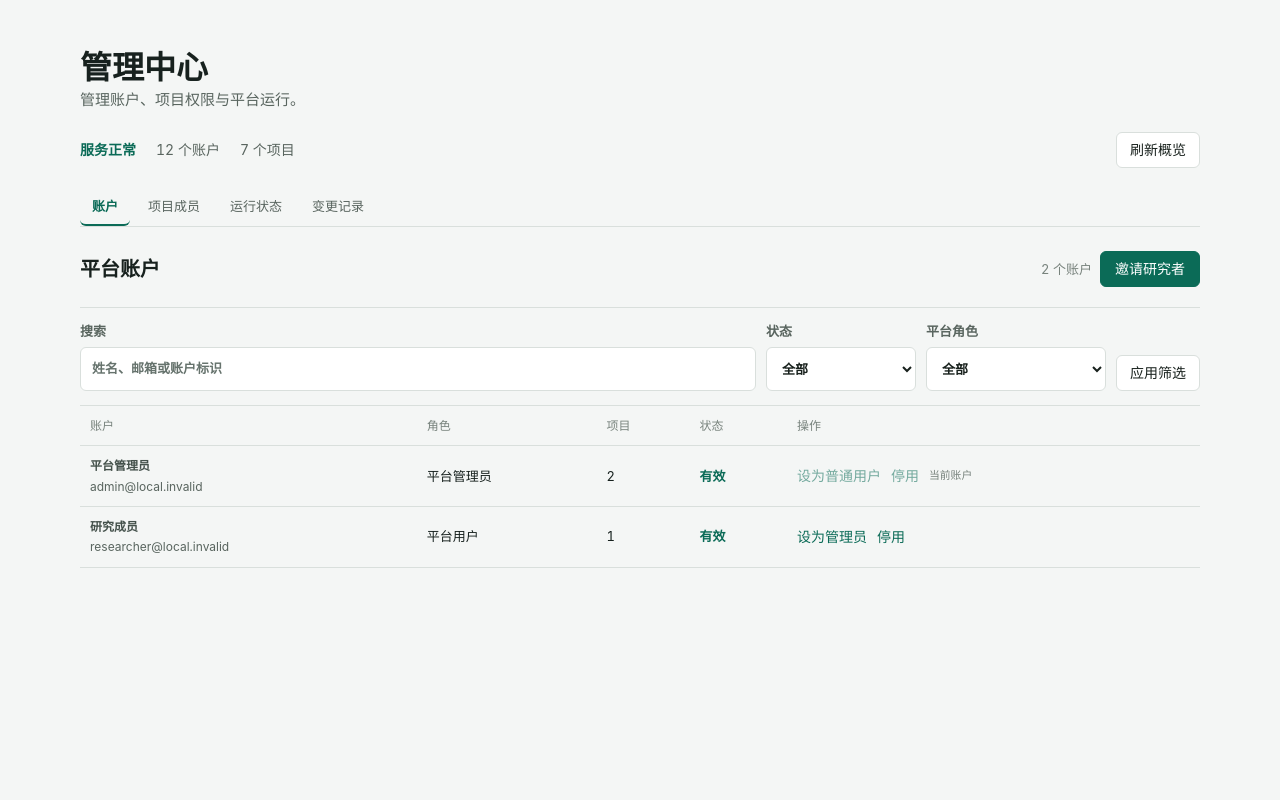
Test case: requires an explicit confirmation before changing another account
The image size is (1280, 800).
Expected: the heading "管理中心" is shown, [80,48,208,87]
Click the button "停用" in the row of "研究成员" at (891,537), box [877,521,905,553]
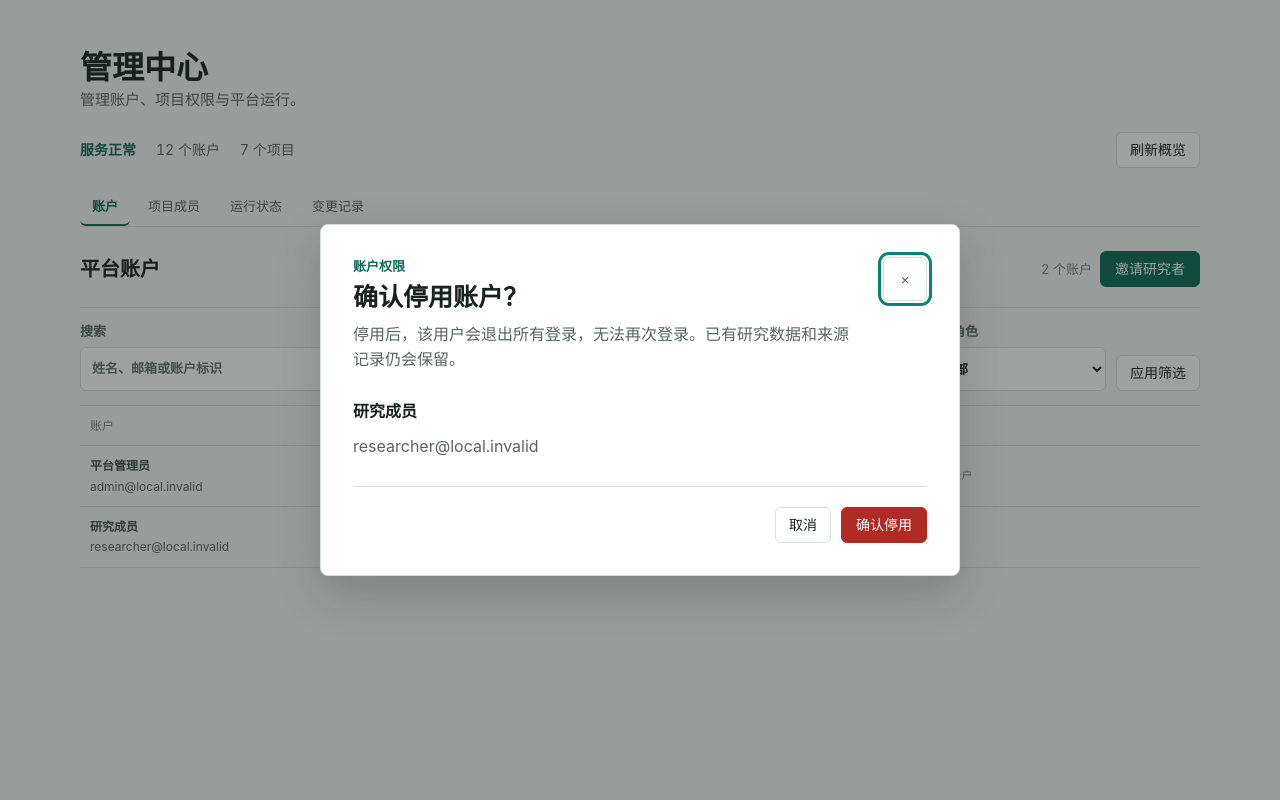
Now the dialog shows "确认停用账户", box [353,282,528,312]
Click the button "取消" at (803,525), box [775,507,831,543]
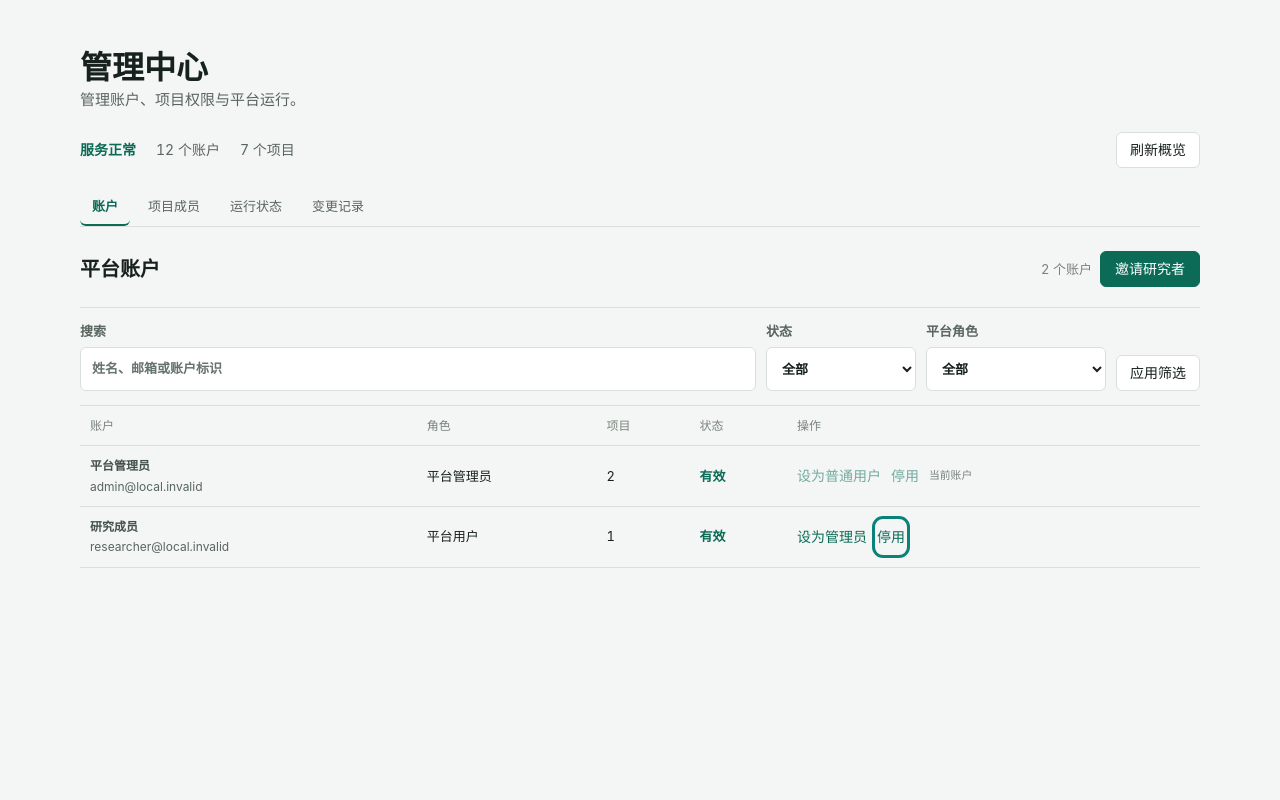
Now the dialog is gone
